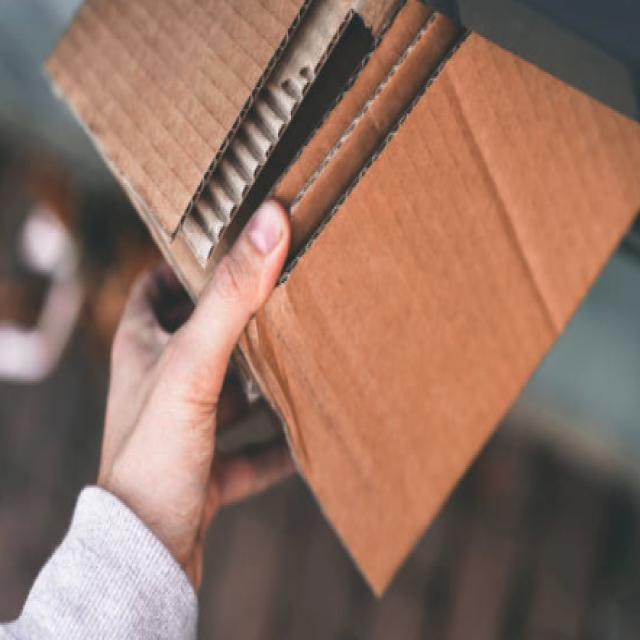Kardus: (41, 0, 638, 599)
